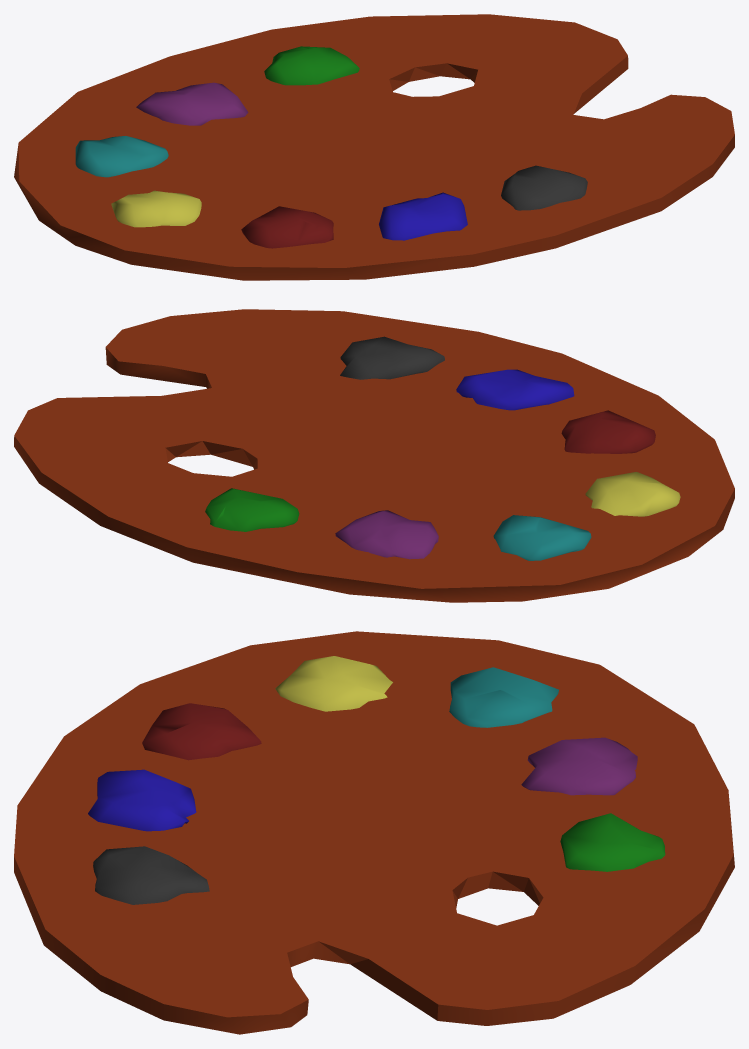
Rendered from Model_Palete.fbx.
3 views of the same model, one above another, from view 1: azimuth 30°, elevation 25°; view 2: azimuth 150°, elevation 25°; view 3: azimuth 270°, elevation 25° (orthographic). The views are drawn at different scales.
Visible parts, largest first — view 1: Base; view 2: Base; view 3: Base.
Part boxes in pixels (left/top/right/bottom): Base: left=14, top=14, right=734, bottom=280; Base: left=14, top=309, right=734, bottom=602; Base: left=14, top=631, right=734, bottom=1034.
Size of the model in its own units: 1521 by 61.5 by 1198.
